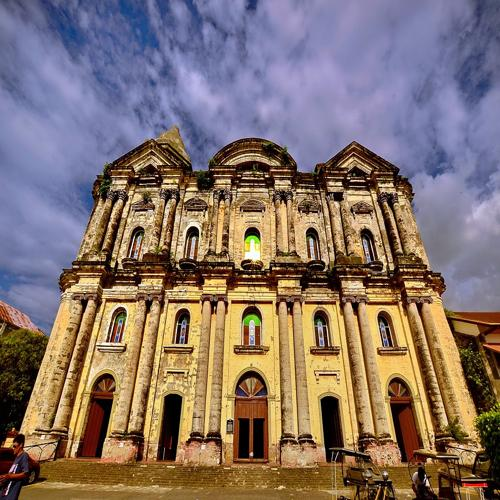Taal Basilica Church: (17, 121, 480, 464)
